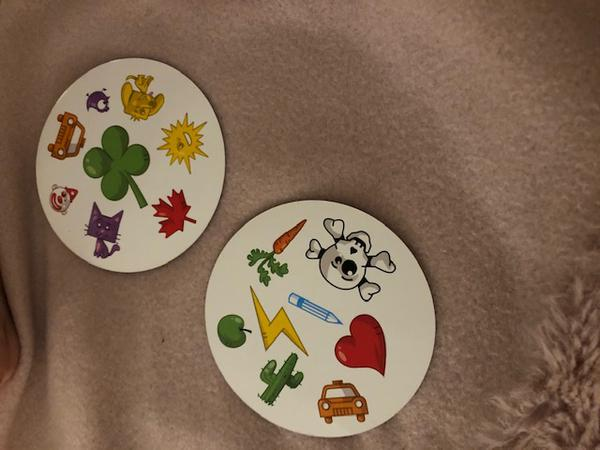cactus: (254, 352, 305, 408)
carotte: (244, 216, 313, 289)
chat: (83, 201, 124, 260)
chien: (116, 70, 164, 123)
clown: (46, 183, 79, 217)
coeur: (332, 311, 391, 376)
crayon: (286, 292, 344, 327)
eclair: (247, 285, 312, 358)
feuille: (146, 184, 198, 242)
oiseau: (81, 84, 110, 116)
pomme: (214, 305, 251, 354)
soleil: (158, 110, 213, 176)
tete_mort: (307, 215, 397, 304)
trefle: (82, 125, 153, 212)
voiture: (316, 378, 371, 425), (43, 109, 87, 161)
